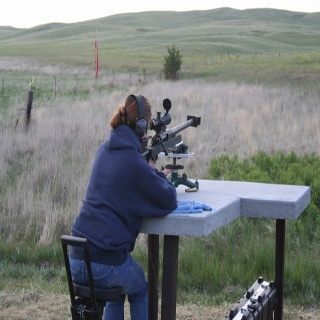rifle: (140, 98, 204, 191)
